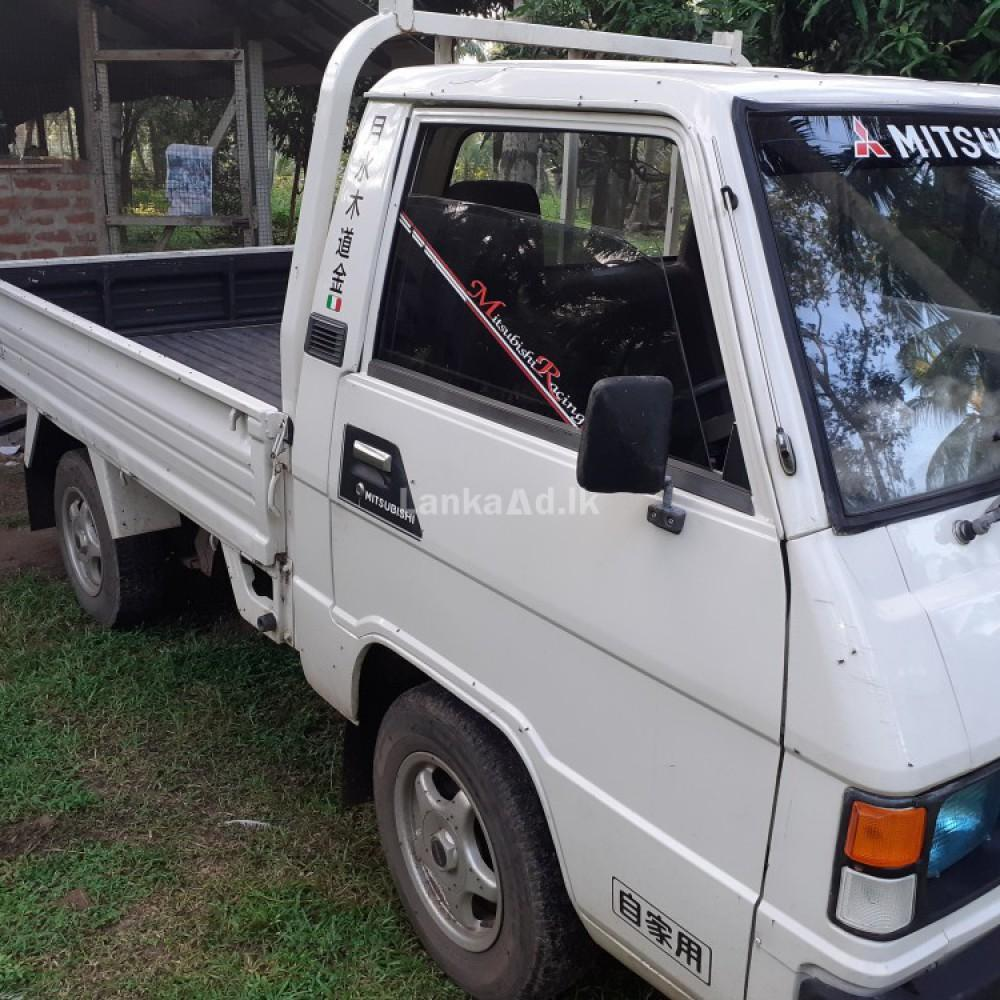truck: (1, 1, 1000, 1000)
